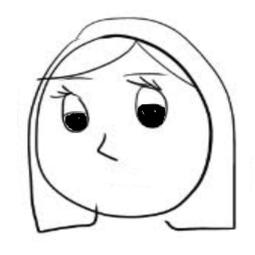eye: (122, 76, 174, 135), (48, 84, 91, 136)
eyebrow: (122, 70, 167, 77), (55, 75, 99, 81)
pointy_nose: (91, 131, 120, 166)
